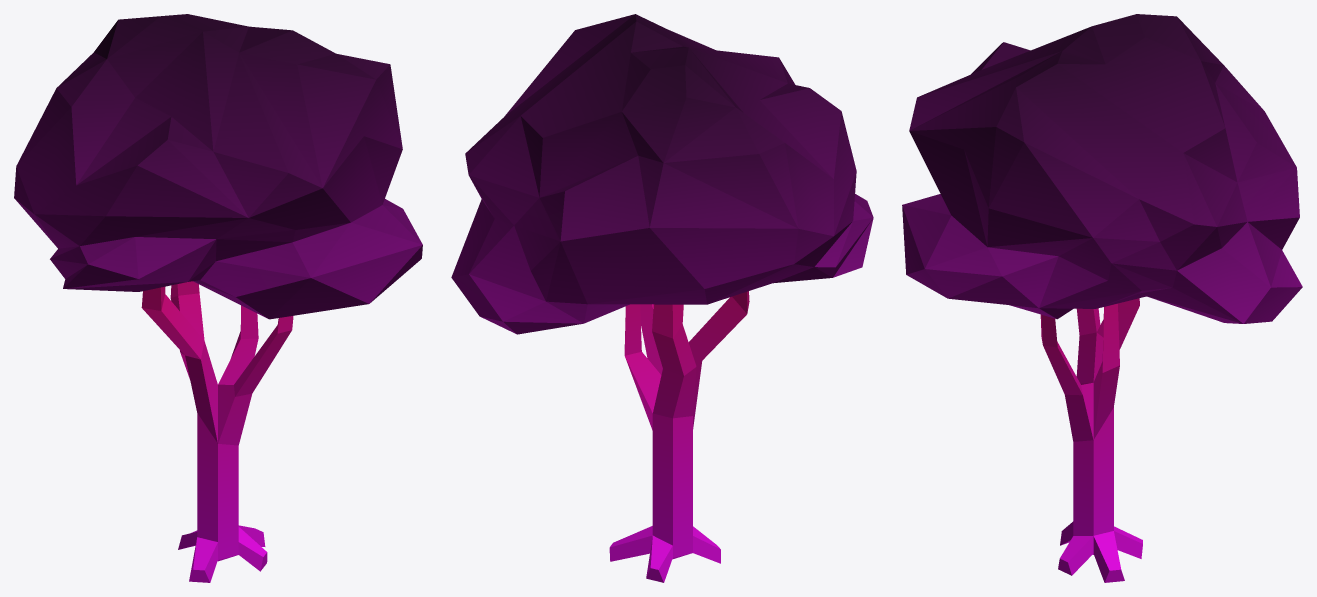
File: SM_Env_Tree_Apple_01.fbx
3 views of the same model, side by side, from view 1: azimuth 30°, elevation 25°; view 2: azimuth 150°, elevation 25°; view 3: azimuth 270°, elevation 25° (orthographic). The views are drawn at different scales.
Visible parts, largest first — view 1: SM_Env_Tree_Apple_01; view 2: SM_Env_Tree_Apple_01; view 3: SM_Env_Tree_Apple_01.
Part boxes in pixels (bbox=[...]): SM_Env_Tree_Apple_01: bbox=[14, 14, 422, 582]; SM_Env_Tree_Apple_01: bbox=[451, 14, 873, 582]; SM_Env_Tree_Apple_01: bbox=[902, 14, 1302, 582].
Bounding box in the file's own units: 293 × 430 × 296.
